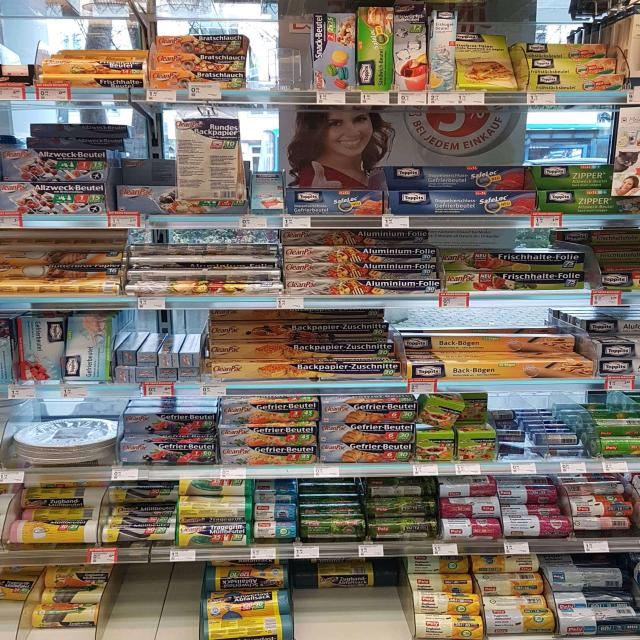empty: (105, 558, 197, 636), (247, 23, 309, 90)
